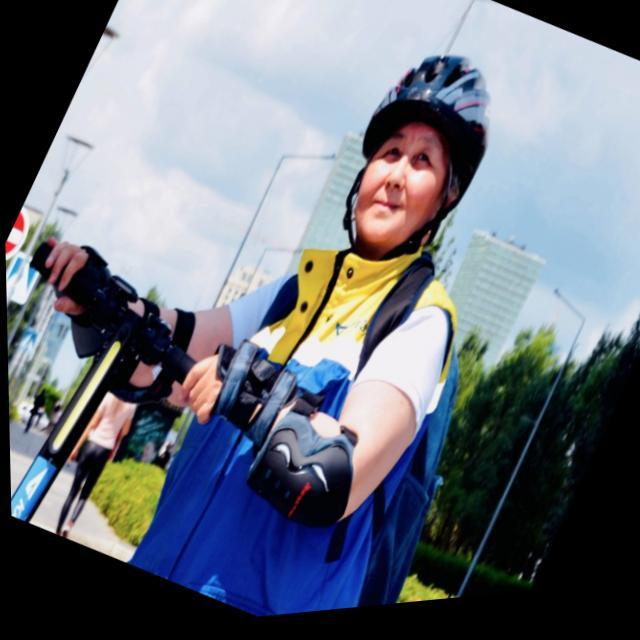Helmet: (330, 33, 504, 271)
